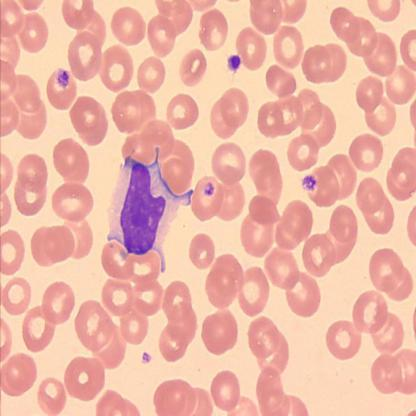Atypical lymphocyte: (108, 144, 194, 271)
